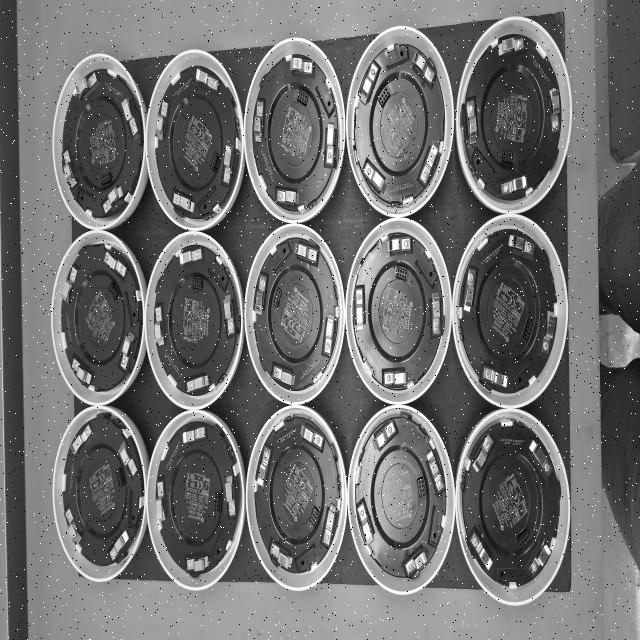yayli: (468, 527, 498, 579), (529, 434, 555, 489), (351, 281, 373, 339), (60, 257, 82, 312), (354, 494, 376, 549), (361, 158, 391, 198), (418, 134, 442, 184), (410, 43, 437, 87), (470, 433, 495, 479), (359, 58, 380, 112), (479, 360, 514, 392), (379, 362, 416, 392), (252, 445, 276, 491), (368, 418, 400, 452), (120, 90, 139, 146), (321, 115, 340, 171), (220, 137, 238, 196), (68, 422, 92, 466), (169, 188, 200, 222), (295, 423, 329, 454), (540, 302, 558, 360), (460, 264, 480, 316), (102, 245, 130, 282), (117, 325, 138, 374), (64, 501, 85, 550), (107, 523, 132, 564), (494, 31, 527, 62), (426, 442, 446, 493), (268, 539, 296, 575), (528, 536, 552, 578), (220, 287, 238, 342), (320, 306, 338, 360), (546, 80, 562, 140), (250, 96, 268, 149), (268, 363, 303, 390), (498, 173, 531, 201), (175, 424, 208, 452), (60, 141, 78, 192), (118, 433, 138, 478), (399, 546, 430, 575), (184, 546, 212, 578), (183, 369, 216, 396), (75, 68, 99, 105), (224, 467, 238, 530), (321, 494, 337, 549), (189, 66, 220, 94), (70, 354, 96, 387), (287, 54, 315, 84), (270, 184, 303, 209), (292, 240, 320, 269), (175, 241, 205, 268), (153, 299, 168, 353), (384, 232, 417, 256), (154, 95, 169, 147), (465, 96, 479, 151), (506, 235, 539, 258), (430, 289, 443, 344), (253, 268, 267, 316), (155, 476, 168, 526), (101, 188, 124, 215)
